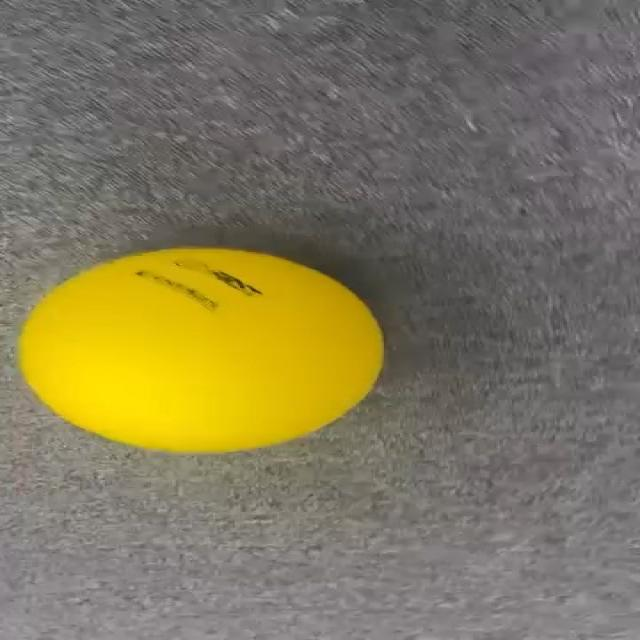Fuels: (20, 248, 380, 451)
